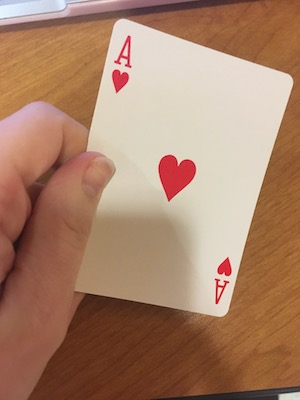AceOfHearts: (53, 10, 294, 318)
